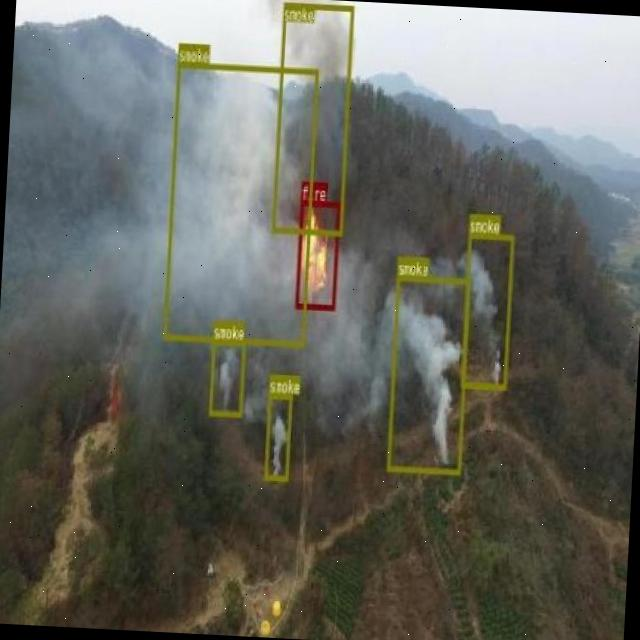fire: (294, 199, 340, 310)
smoke: (163, 61, 319, 347), (270, 2, 354, 236), (386, 274, 471, 474), (461, 232, 514, 388), (208, 339, 246, 417), (264, 392, 292, 482)
